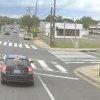crosswalks: (47, 49, 99, 63)
